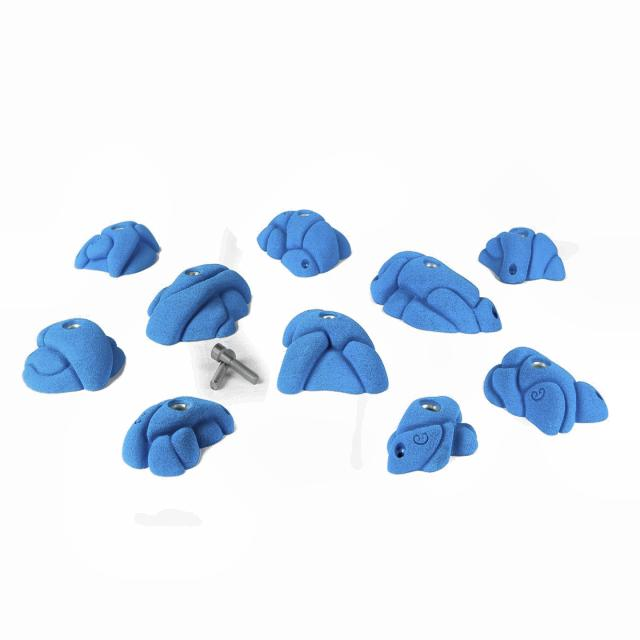Hold: (371, 251, 503, 340), (482, 348, 608, 431), (121, 393, 233, 481), (279, 310, 393, 392), (148, 268, 253, 345), (23, 317, 124, 391), (386, 392, 478, 473), (256, 203, 347, 272), (72, 214, 162, 282), (476, 229, 569, 283)
